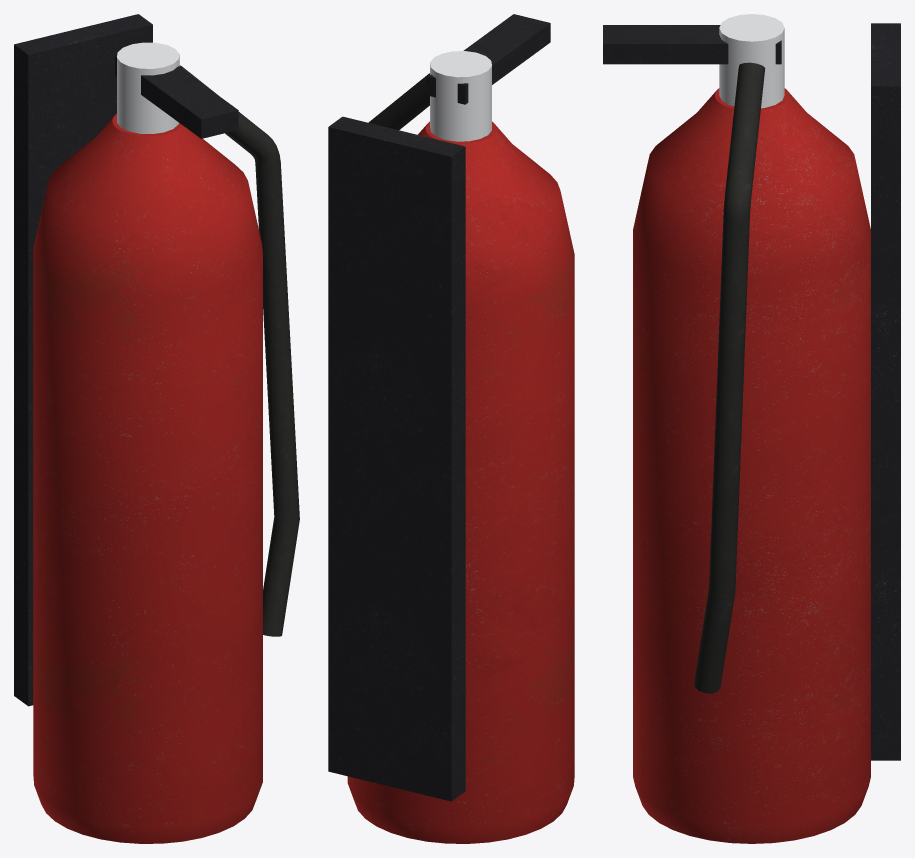
The model's file is SM_QUE_FireExtinguisher.fbx.
3 views of the same model, side by side, from view 1: azimuth 30°, elevation 25°; view 2: azimuth 150°, elevation 25°; view 3: azimuth 270°, elevation 25° (orthographic). The views are drawn at different scales.
Parts seen in each view (by area): view 1: SM_QUE_FireExtinguisher; view 2: SM_QUE_FireExtinguisher; view 3: SM_QUE_FireExtinguisher.
Boxes of the visible parts, x1,y1,x2,y2 form: SM_QUE_FireExtinguisher: (14, 14, 299, 843); SM_QUE_FireExtinguisher: (328, 14, 574, 843); SM_QUE_FireExtinguisher: (603, 14, 900, 843).
Size of the model in its own units: 0.1889 by 0.57 by 0.2.
